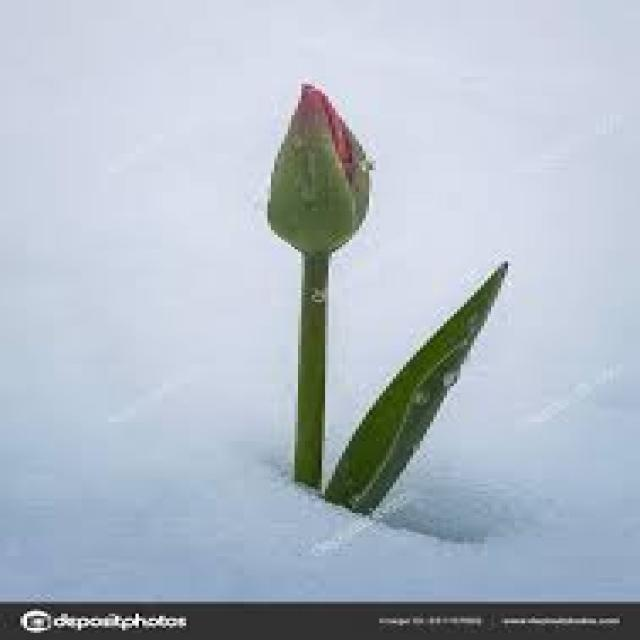Unbloomed: (267, 76, 382, 256)
